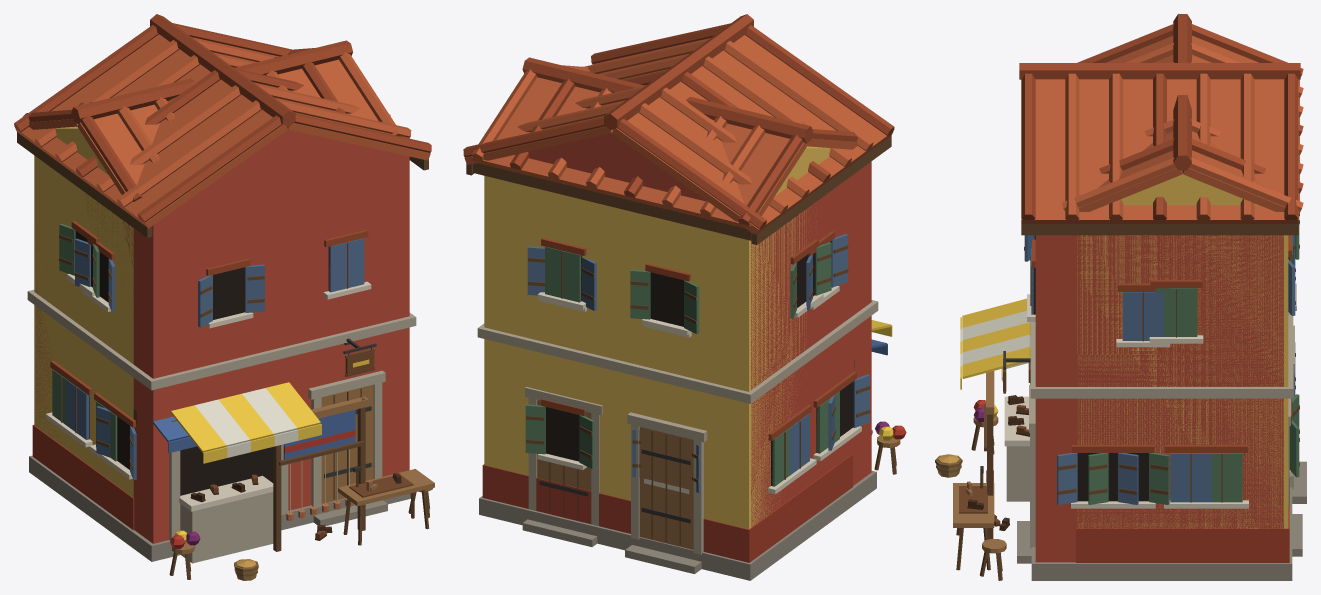
The model's file is Werkstatthaus.fbx.
3 views of the same model, side by side, from view 1: azimuth 30°, elevation 25°; view 2: azimuth 150°, elevation 25°; view 3: azimuth 270°, elevation 25° (orthographic). The views are drawn at different scales.
Parts seen in each view (by area): view 1: Werkstatthaus_0, Werkstatthaus_1; view 2: Werkstatthaus_1, Werkstatthaus_0; view 3: Werkstatthaus_0, Werkstatthaus_1.
Boxes of the visible parts, x1,y1,x2,y2 form: Werkstatthaus_0: (14,14,434,563); Werkstatthaus_1: (23,40,402,580); Werkstatthaus_1: (471,57,906,580); Werkstatthaus_0: (463,14,894,579); Werkstatthaus_0: (953,63,1302,580); Werkstatthaus_1: (935,14,1306,580).
Size of the model in its own units: 1.72 by 2.4 by 1.8.
